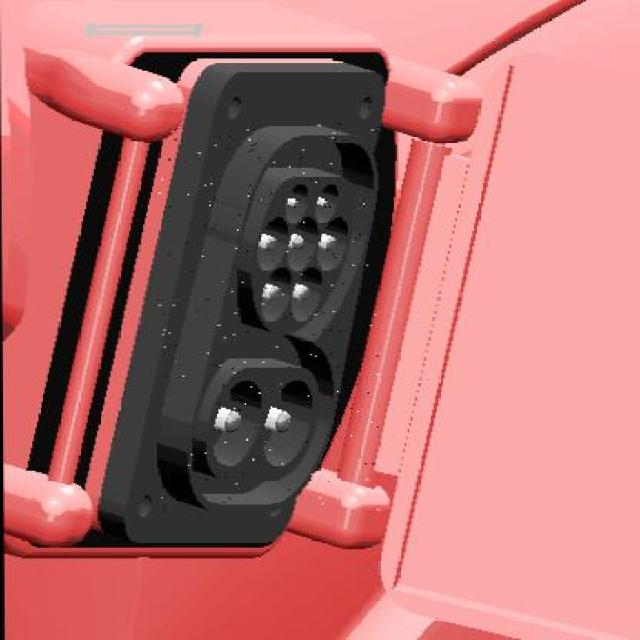CCS2: (165, 160, 376, 524)
